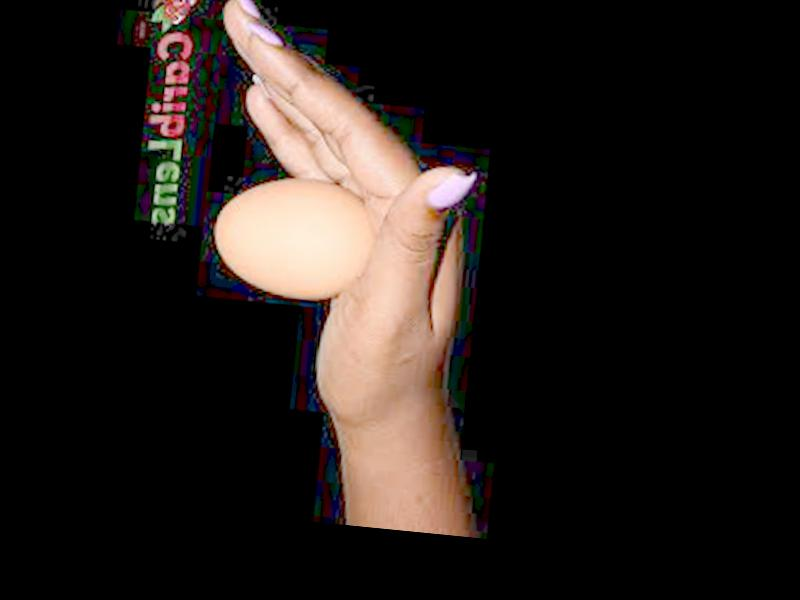Eggs: (208, 169, 377, 305)
